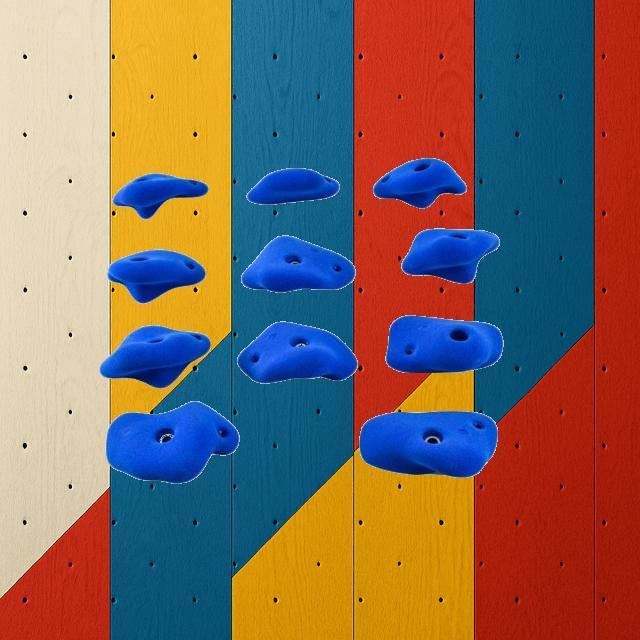Jug: (105, 400, 239, 484), (358, 410, 498, 478), (236, 321, 358, 384), (98, 324, 210, 388), (385, 314, 503, 374), (240, 234, 356, 292), (400, 228, 500, 284), (106, 248, 206, 304), (373, 157, 467, 209), (112, 172, 208, 220), (245, 167, 338, 205)
